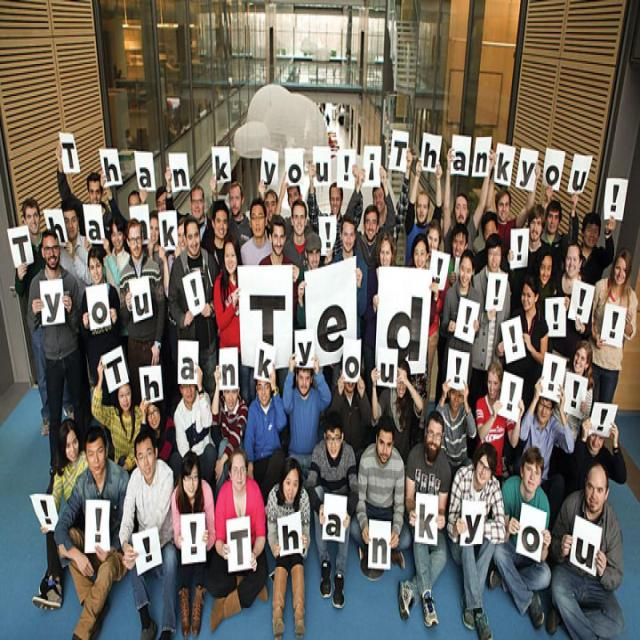body: (53, 421, 132, 639), (26, 230, 91, 472), (551, 448, 630, 639), (14, 198, 69, 437), (490, 438, 553, 639), (397, 408, 453, 629), (122, 425, 179, 639), (29, 416, 90, 612), (378, 142, 426, 390), (450, 432, 505, 639), (543, 178, 586, 440), (305, 412, 360, 610), (212, 447, 267, 633), (466, 233, 512, 455), (167, 216, 221, 403), (351, 163, 398, 371), (350, 412, 411, 572), (518, 373, 576, 534), (118, 216, 166, 410), (264, 455, 313, 640), (408, 218, 448, 442), (170, 452, 217, 639), (589, 246, 639, 420), (495, 273, 549, 425), (54, 140, 118, 257), (329, 215, 369, 391), (473, 357, 524, 492), (169, 364, 218, 502), (239, 196, 272, 400), (213, 232, 251, 409), (80, 246, 122, 406), (90, 355, 144, 479), (282, 351, 332, 481), (442, 143, 496, 260), (246, 359, 288, 506), (487, 152, 539, 269), (409, 231, 437, 448), (441, 250, 483, 390), (365, 229, 397, 408), (210, 362, 250, 505), (507, 201, 555, 320), (306, 160, 364, 258), (345, 164, 397, 270), (371, 358, 422, 464), (324, 350, 372, 456), (164, 160, 216, 256), (568, 416, 628, 496), (550, 242, 591, 358), (256, 216, 300, 324), (56, 201, 95, 319), (404, 157, 444, 268), (83, 212, 132, 302), (553, 338, 595, 442), (434, 370, 476, 473), (210, 198, 231, 400), (99, 173, 149, 255), (294, 229, 327, 330), (579, 210, 617, 287), (278, 164, 313, 244), (138, 397, 178, 462), (473, 210, 512, 276), (158, 214, 188, 298), (283, 198, 310, 284), (538, 250, 559, 354), (226, 180, 255, 252), (448, 222, 476, 285), (371, 180, 397, 239), (142, 209, 164, 276), (138, 179, 168, 215), (263, 188, 279, 242)
